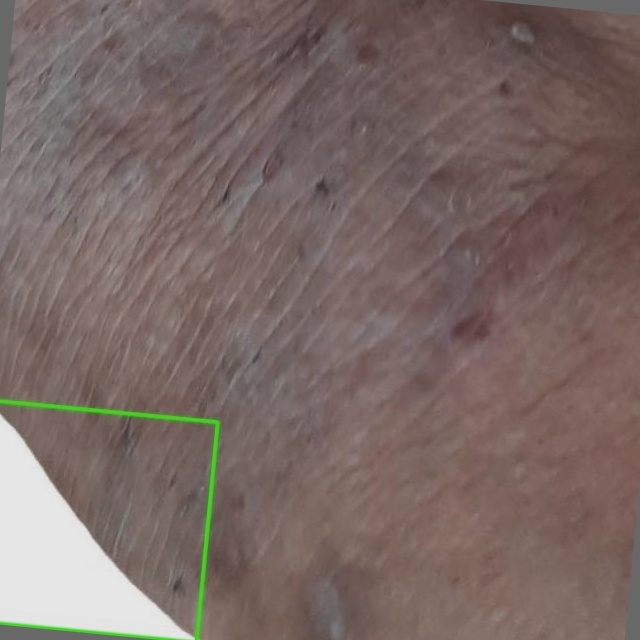Contact Dermatitis: (0, 401, 217, 639)
